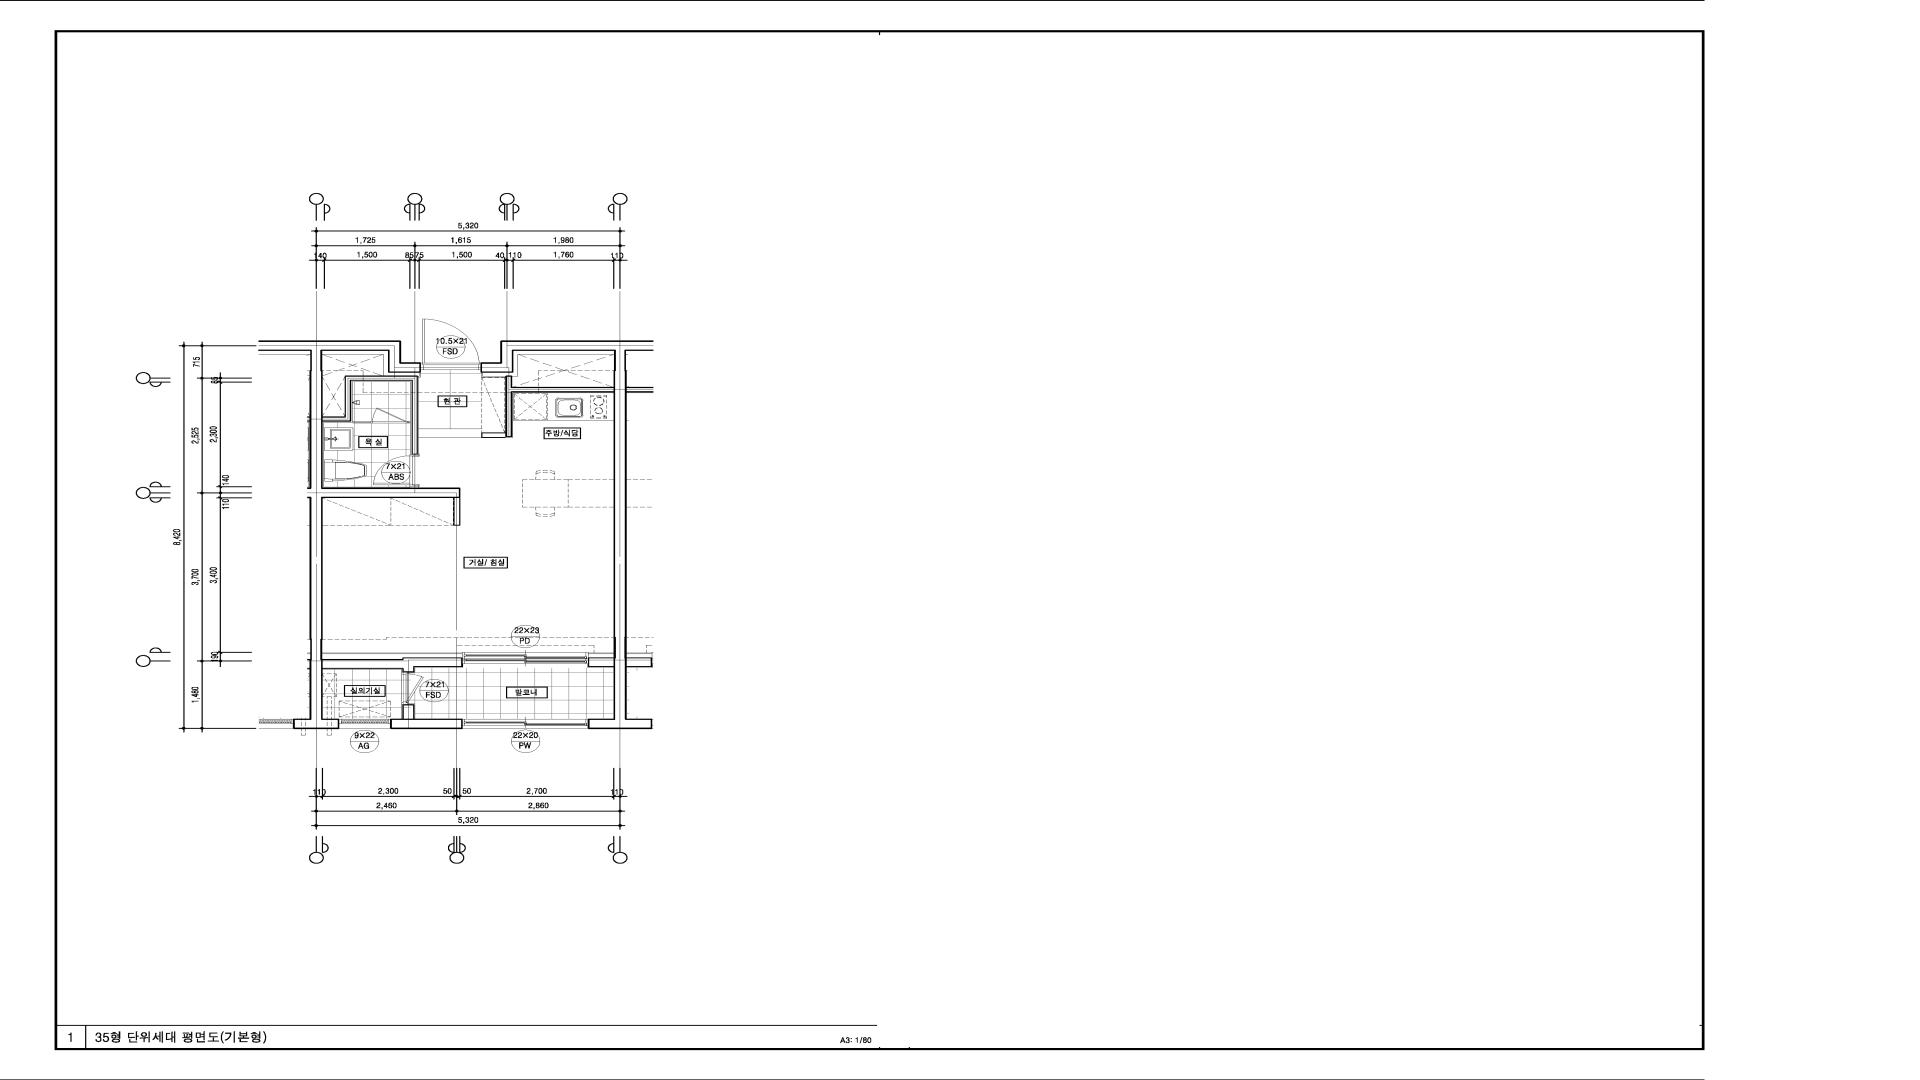door: (421, 319, 481, 371), (373, 455, 418, 488), (402, 673, 423, 704), (372, 407, 410, 423)
wall: (310, 340, 460, 729), (480, 340, 626, 729), (481, 376, 615, 438), (322, 376, 418, 455), (322, 658, 463, 673), (390, 719, 463, 729), (588, 657, 615, 667), (454, 497, 460, 526), (402, 704, 414, 719), (353, 422, 372, 423)
window: (463, 653, 588, 665), (463, 719, 588, 729), (339, 719, 390, 729)
